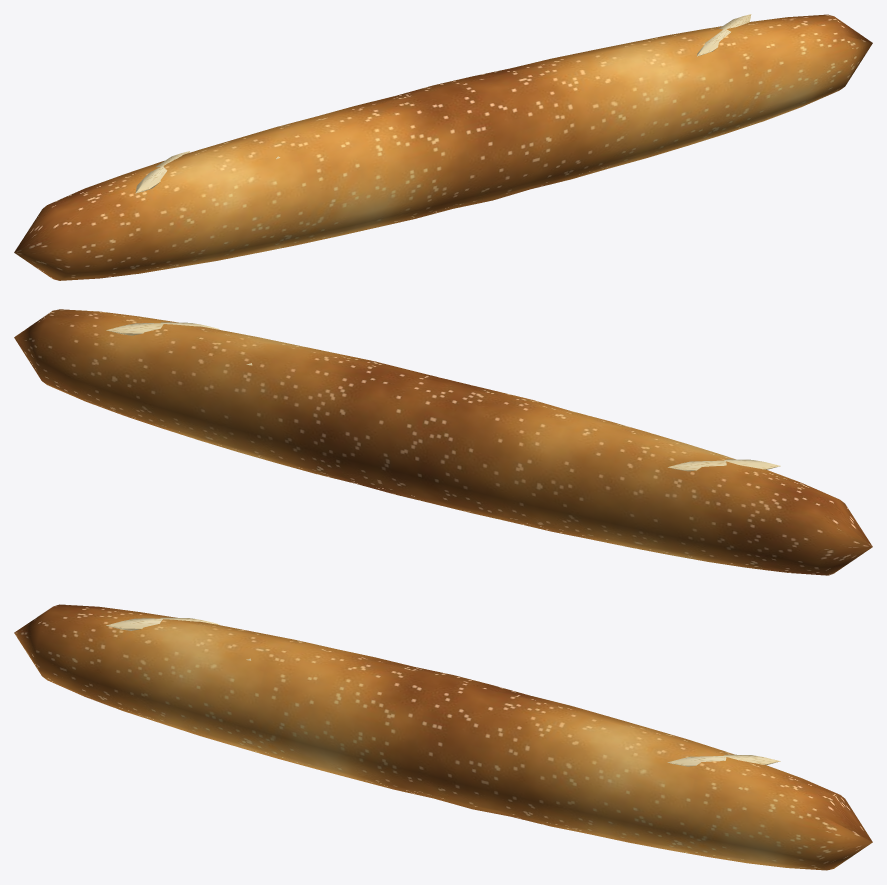
Rendered from bakery_baguette.glb.
3 views of the same model, one above another, from view 1: azimuth 30°, elevation 25°; view 2: azimuth 150°, elevation 25°; view 3: azimuth 330°, elevation 25° (orthographic).
Visible parts, largest first — view 1: bakery_baguette; view 2: bakery_baguette; view 3: bakery_baguette.
Part boxes in pixels (x1,y1,x2,y2): bakery_baguette: [14, 14, 872, 280]; bakery_baguette: [14, 309, 872, 575]; bakery_baguette: [14, 604, 872, 870].
Size of the model in its own units: 0.5203 by 0.0686 by 0.056.
Materials: 2 (2 with a texture image).
